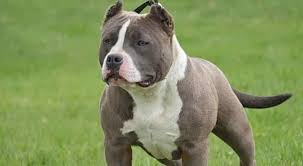Perro Pitbull: (89, 1, 202, 106)
